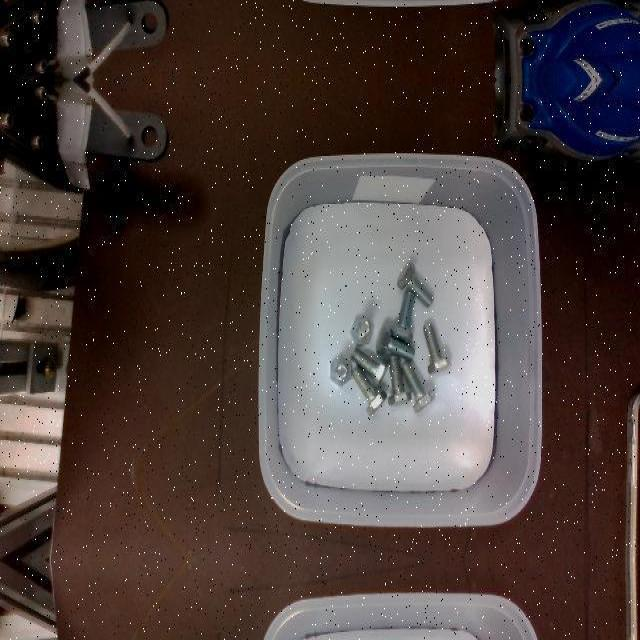screw: (351, 366, 387, 416), (400, 361, 435, 411), (397, 261, 434, 307), (350, 346, 388, 388), (376, 324, 415, 362), (423, 323, 452, 373), (391, 292, 416, 344), (387, 355, 411, 405), (349, 316, 373, 346), (330, 355, 351, 387)
